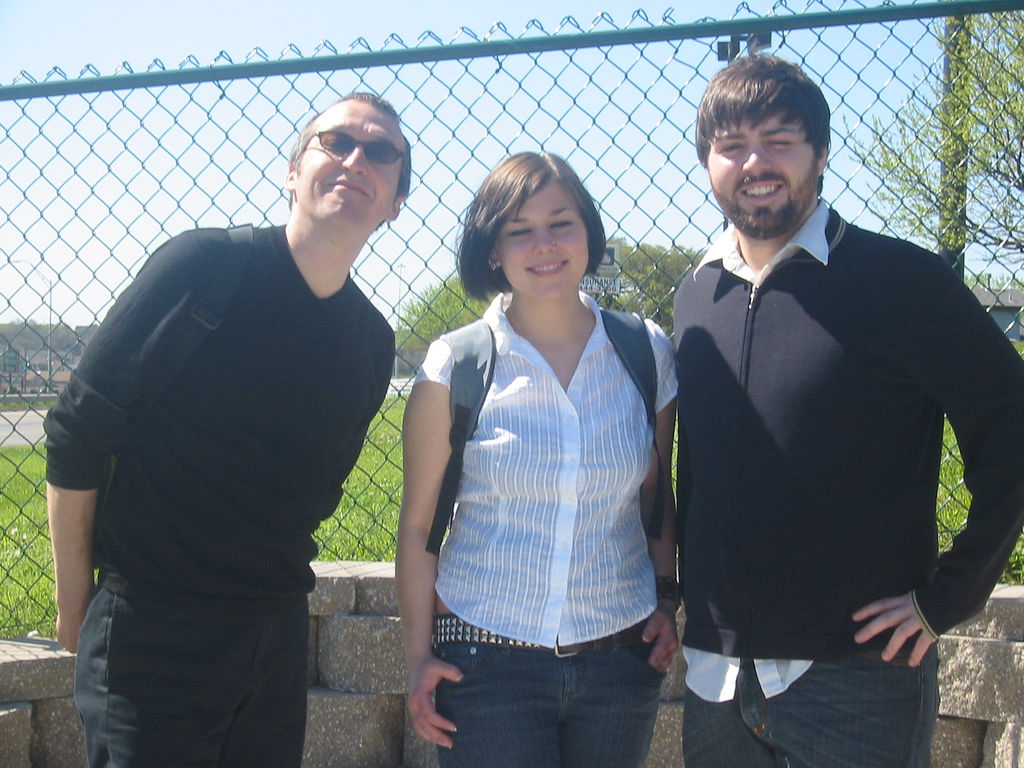head: (691, 49, 837, 249)
